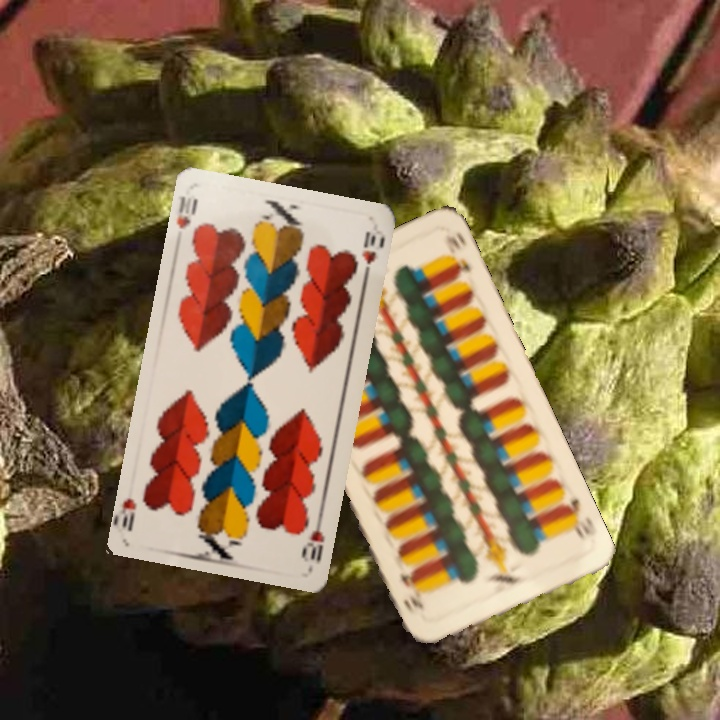E10: (557, 494, 599, 544)
H10: (298, 509, 327, 565), (172, 192, 200, 231)
